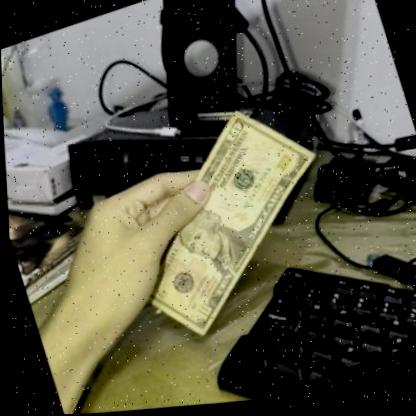ten-front: (97, 88, 357, 356)
